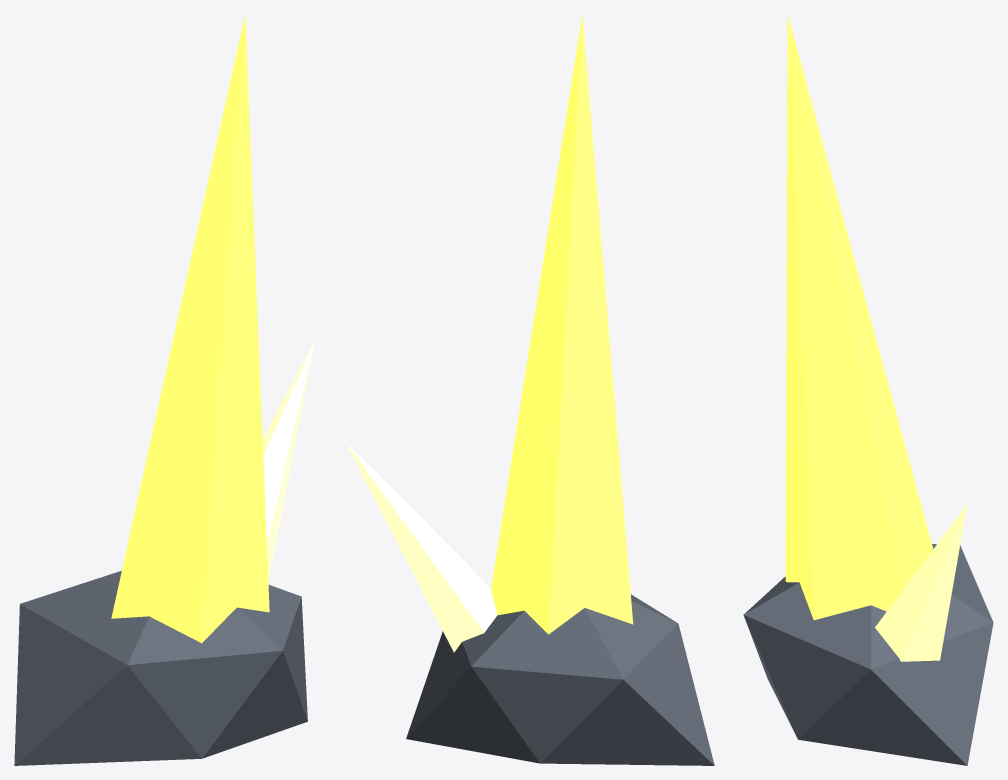
Rendered from storm_crystal.glb.
The picture shows the model from 3 angles, left to right: view 1: azimuth 30°, elevation 25°; view 2: azimuth 150°, elevation 25°; view 3: azimuth 270°, elevation 25°; orthographic projection. The views are drawn at different scales.
Visible parts, largest first — view 1: storm_crystal; view 2: storm_crystal; view 3: storm_crystal.
Boxes of the visible parts, left/top/right/bottom form: storm_crystal: left=14, top=15, right=315, bottom=765; storm_crystal: left=345, top=14, right=714, bottom=765; storm_crystal: left=743, top=14, right=993, bottom=765.
Bounding box in the file's own units: 1.91 × 3.99 × 1.24.
